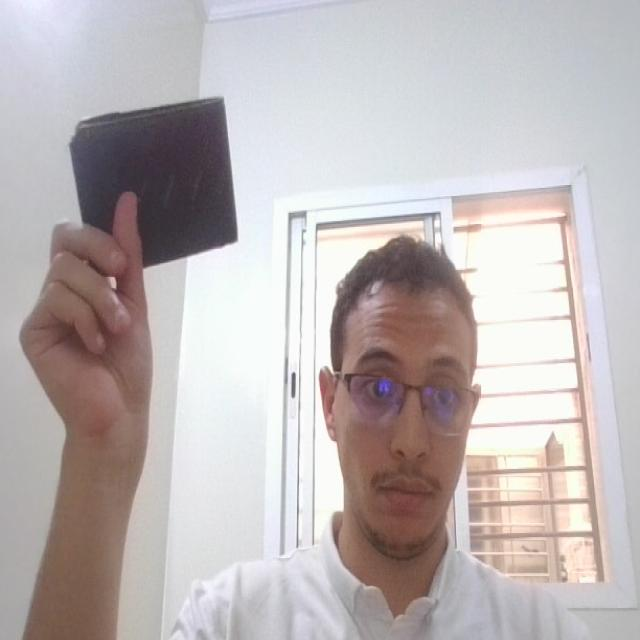wallet: (63, 90, 259, 284)
